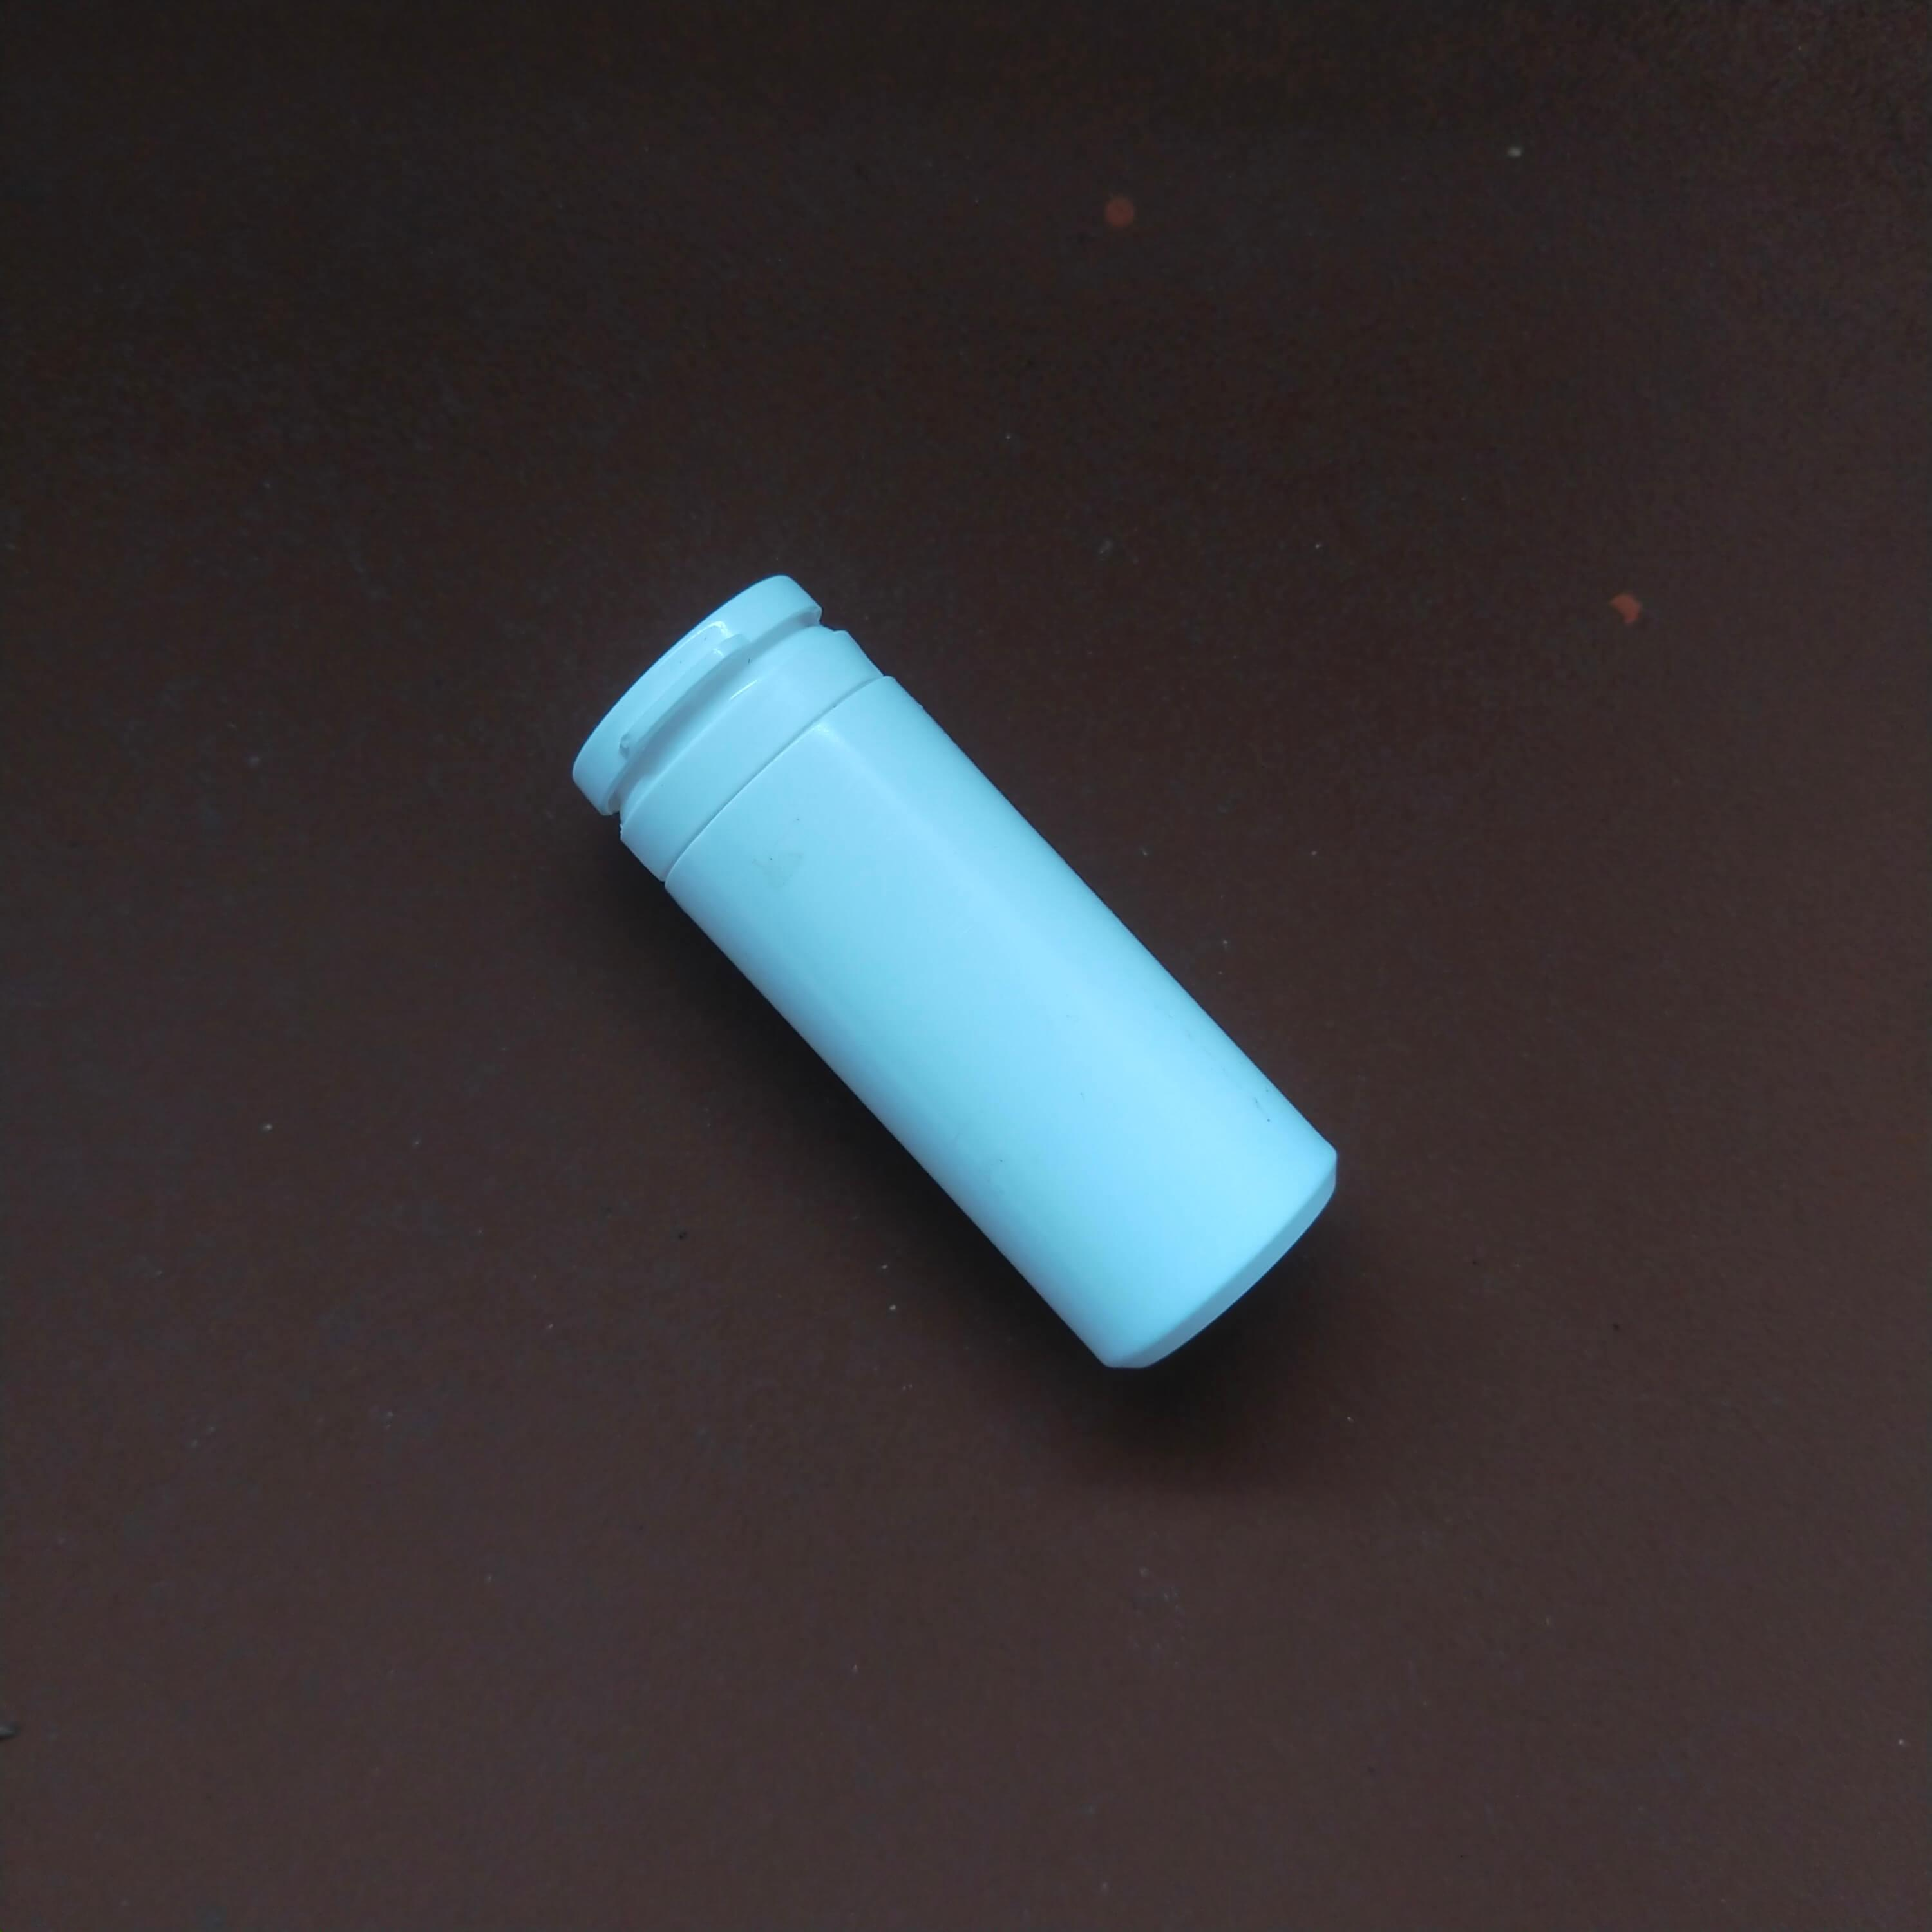plastic box: (483, 533, 1437, 1430)
